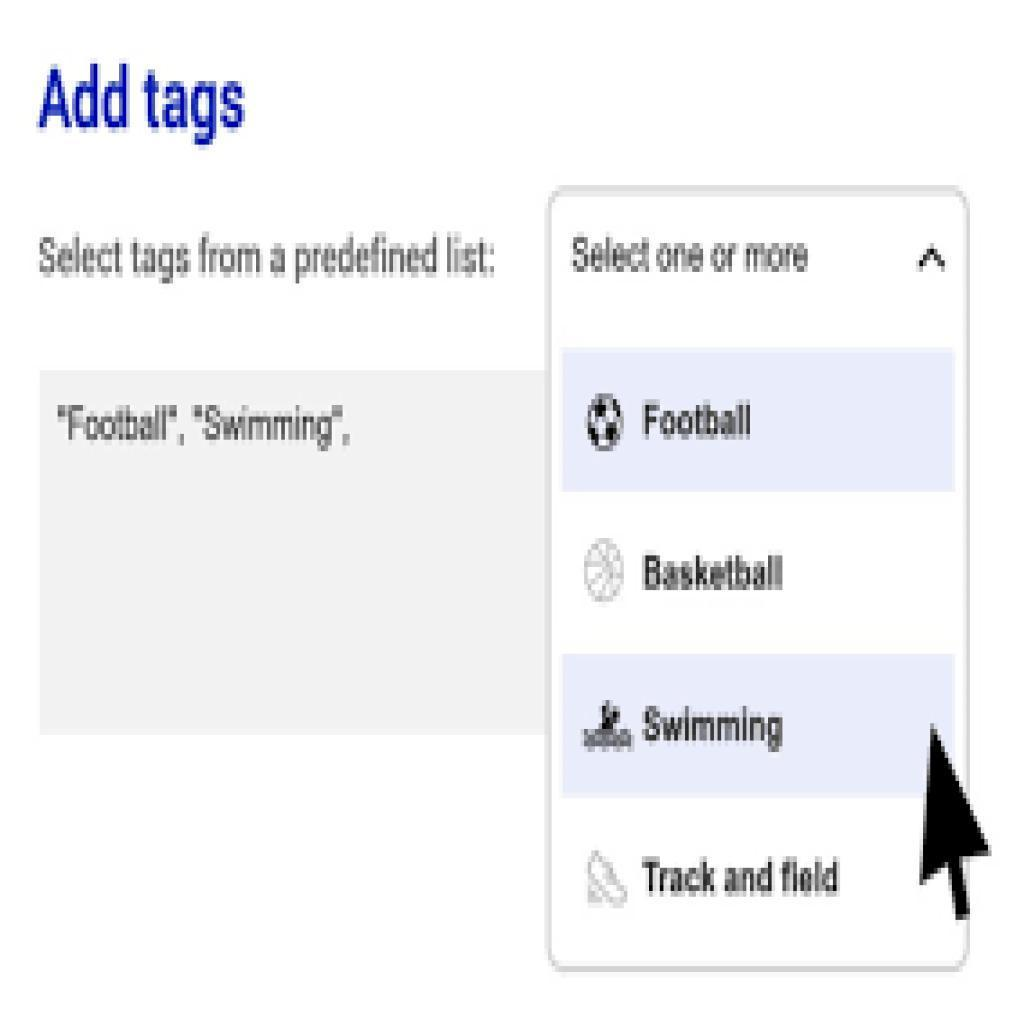dropdown: (549, 184, 973, 349)
